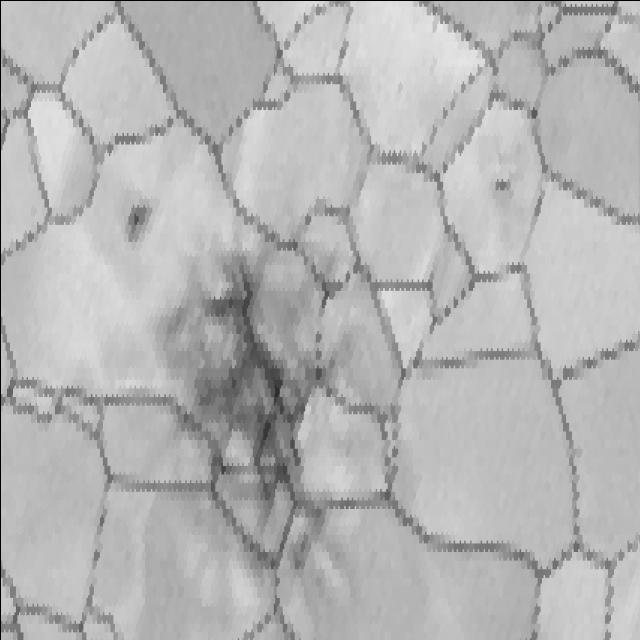good_void: (154, 235, 347, 593), (491, 155, 528, 214), (118, 200, 154, 250)
